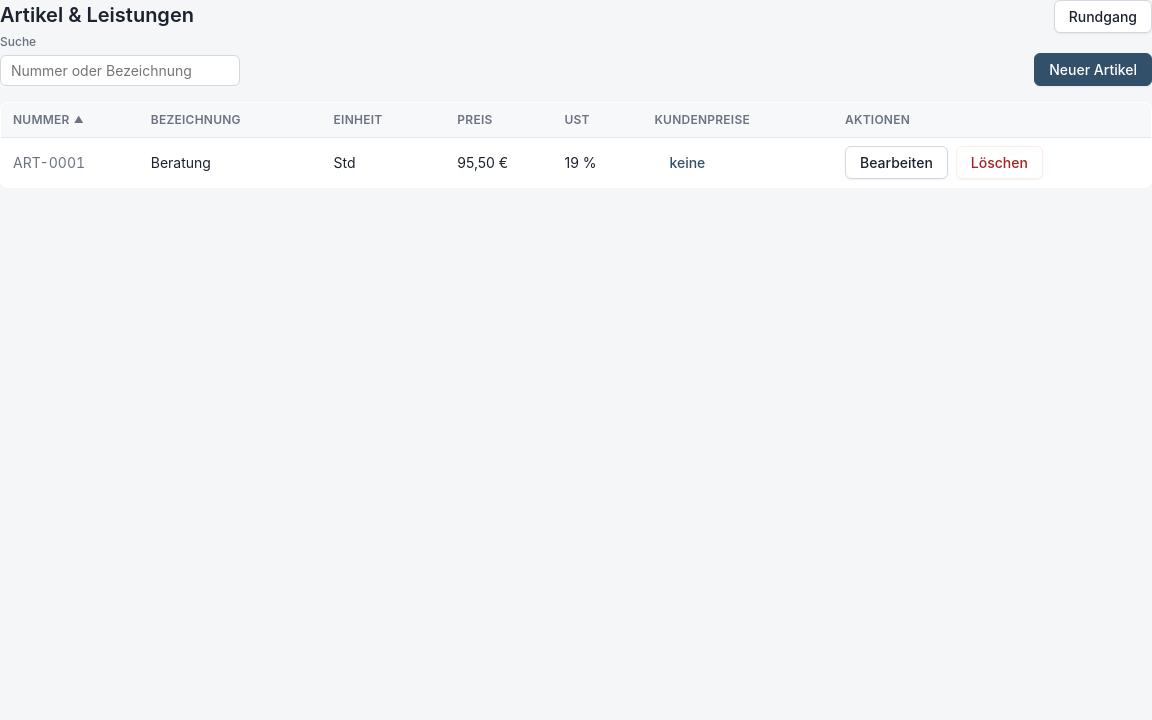
Test: Artikel › öffnet die Kundenpreise als Dialog, ohne die Tabelle zu zerreißen
Expected: the text "Beratung" is shown, [139, 138, 322, 188]
Click the button with aria-label "Kundenpreise für Beratung".
click(687, 162)  # box [654, 146, 720, 179]
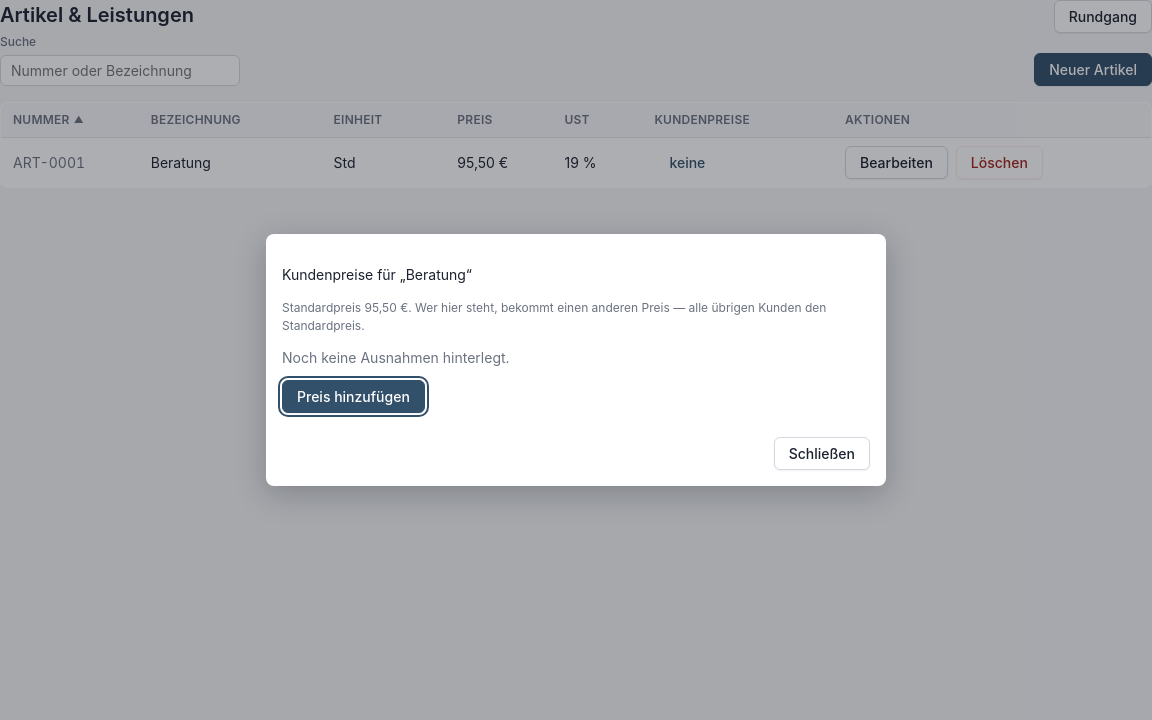
Now the dialog is shown, box [266, 234, 886, 486]
Now the dialog shows "Kundenpreise für", box [282, 266, 472, 283]
